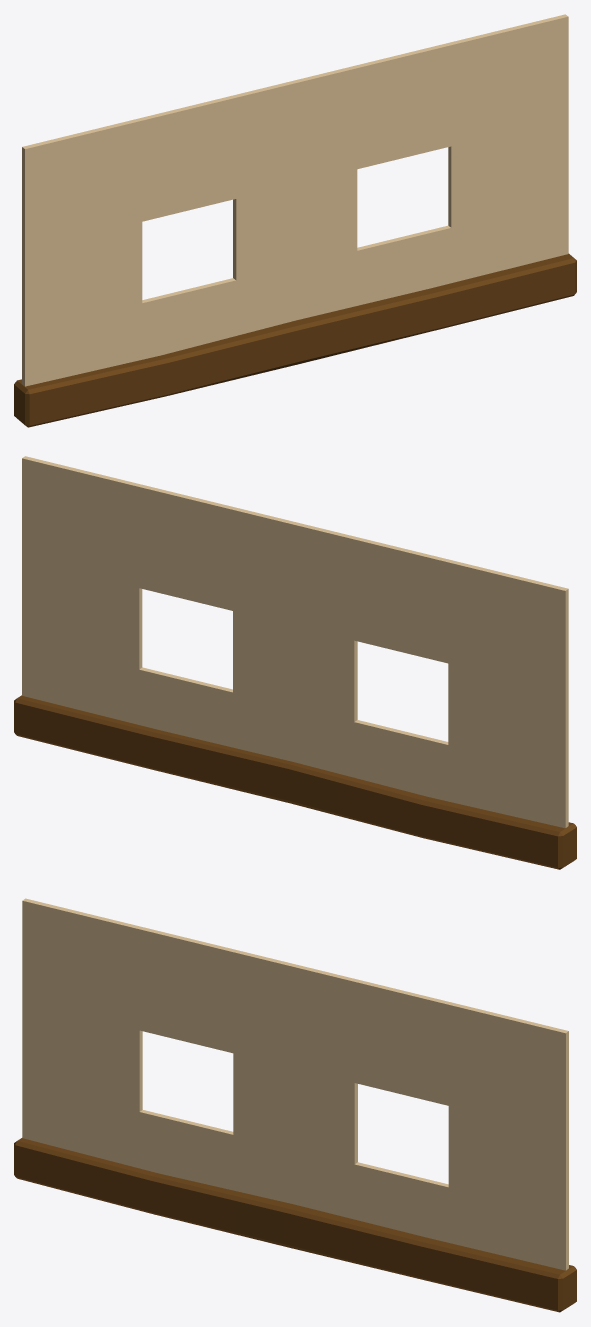
File: Wall_03_Window.fbx
3 renders of one model, top to bottom at view 1: azimuth 30°, elevation 25°; view 2: azimuth 150°, elevation 25°; view 3: azimuth 330°, elevation 25°, orthographic.
Parts seen in each view (by area): view 1: Wall_03_Window; view 2: Wall_03_Window; view 3: Wall_03_Window.
Boxes of the visible parts, x1,y1,x2,y2 form: Wall_03_Window: [14, 14, 576, 427]; Wall_03_Window: [14, 456, 576, 869]; Wall_03_Window: [14, 898, 576, 1312].
Bounding box in the file's own units: 584 × 280 × 32.29.
